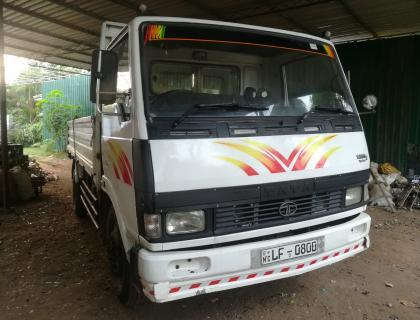truck: (66, 15, 378, 304)
